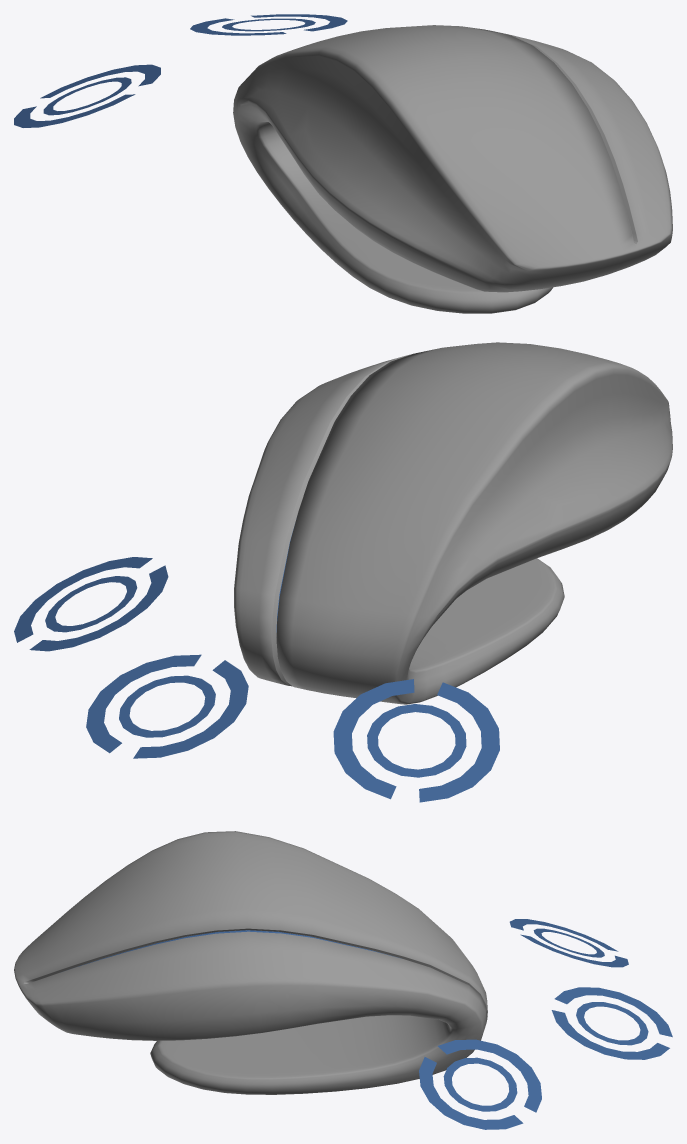
Rendered from mouse.FBX.
3 renders of one model, top to bottom at view 1: azimuth 30°, elevation 25°; view 2: azimuth 150°, elevation 25°; view 3: azimuth 270°, elevation 25°, orthographic. The views are drawn at different scales.
Parts seen in each view (by area): view 1: Box002; view 2: Box002; view 3: Box002.
Boxes of the visible parts, x1,y1,x2,y2 form: Box002: [14, 14, 672, 313]; Box002: [14, 342, 672, 802]; Box002: [14, 831, 672, 1129].
Size of the model in its own units: 26.31 by 12.12 by 38.02.
